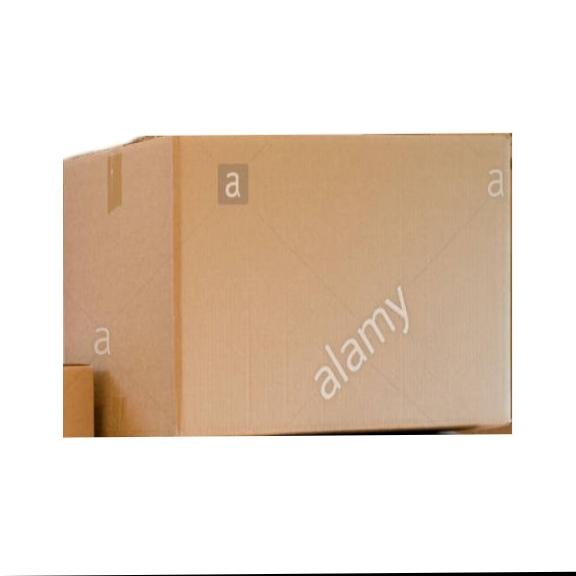Kertas: (64, 134, 510, 435), (63, 365, 94, 437)
